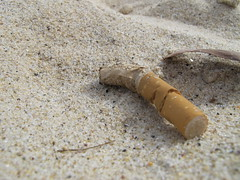cigarette: (98, 62, 210, 140)
